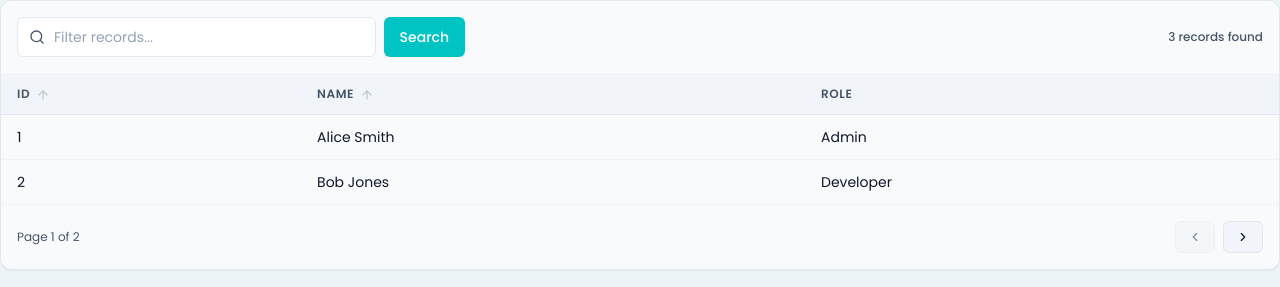
DataTable Component › handles pagination navigation and empty state
expect the text "Page 1 of 2" is shown: met, box x1=17 y1=229 x2=80 y2=245
Click the button named "next page" at {"x": 1243, "y": 237}, box x1=1223 y1=221 x2=1263 y2=253
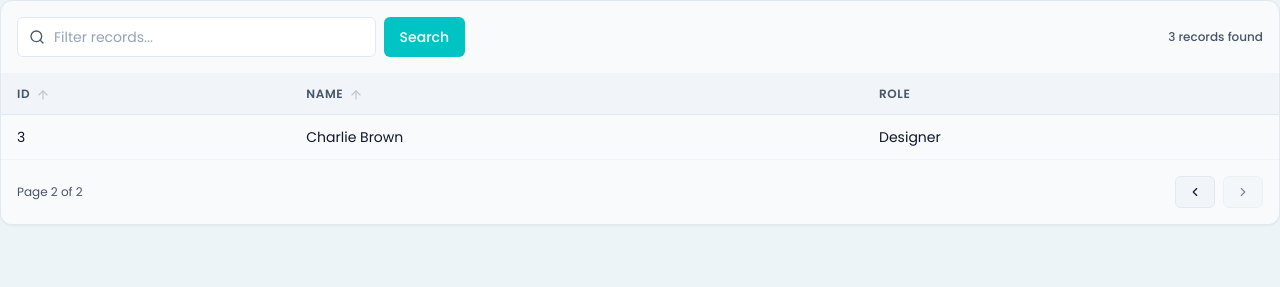
expect the text "Page 2 of 2" is shown: met, box x1=17 y1=184 x2=83 y2=200
Click the button named "previous page" at {"x": 1195, "y": 192}, box x1=1175 y1=176 x2=1215 y2=208
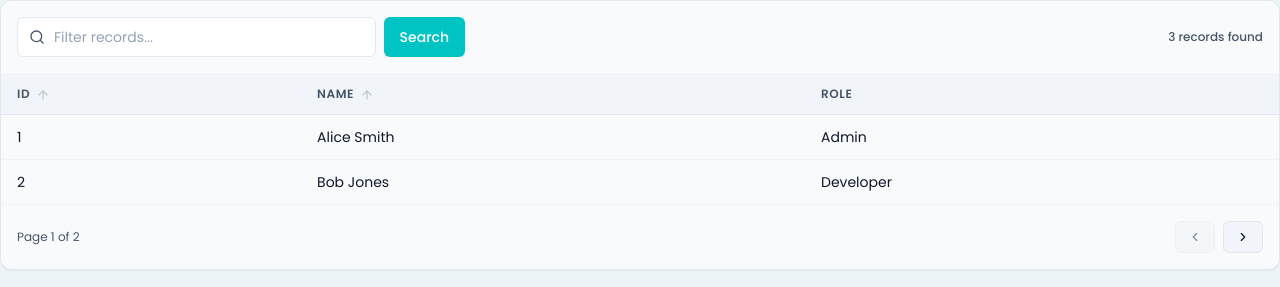
expect the text "Page 1 of 2" is shown: met, box x1=17 y1=229 x2=80 y2=245
